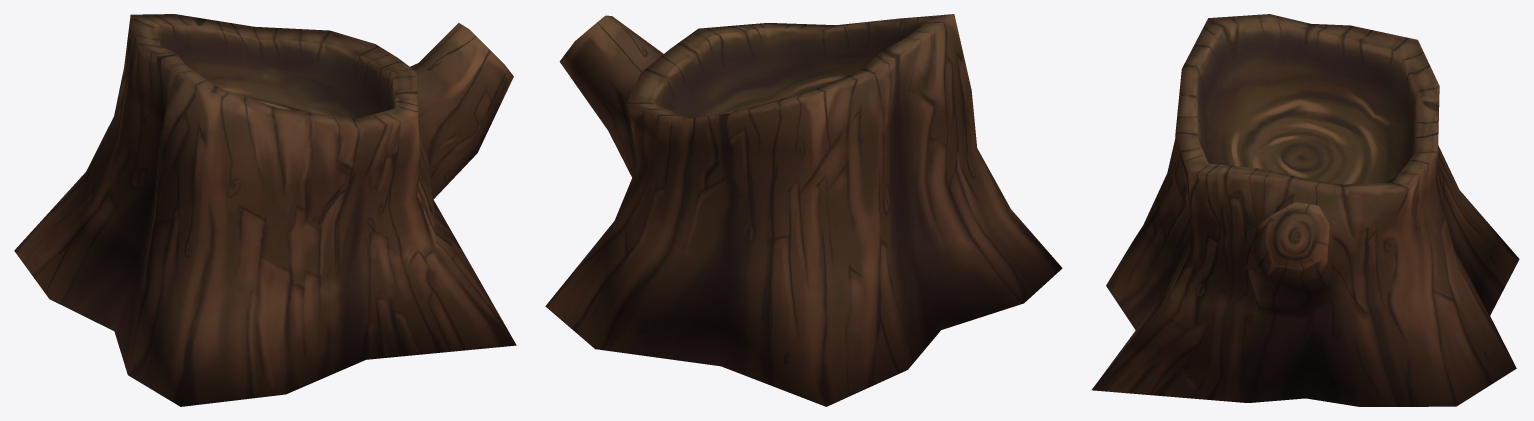
Rendered from tree_stump__hand_painted.glb.
The picture shows the model from 3 angles, left to right: view 1: azimuth 30°, elevation 25°; view 2: azimuth 150°, elevation 25°; view 3: azimuth 270°, elevation 25°; orthographic projection. The views are drawn at different scales.
Visible parts, largest first — view 1: Cube; view 2: Cube; view 3: Cube.
Part boxes in pixels (x1,y1,x2,y2): Cube: [14, 14, 516, 406]; Cube: [545, 14, 1062, 406]; Cube: [1092, 14, 1519, 406].
Bounding box in the file's own units: 2 × 1.24 × 1.86.
Materials: 1 (1 with a texture image).
